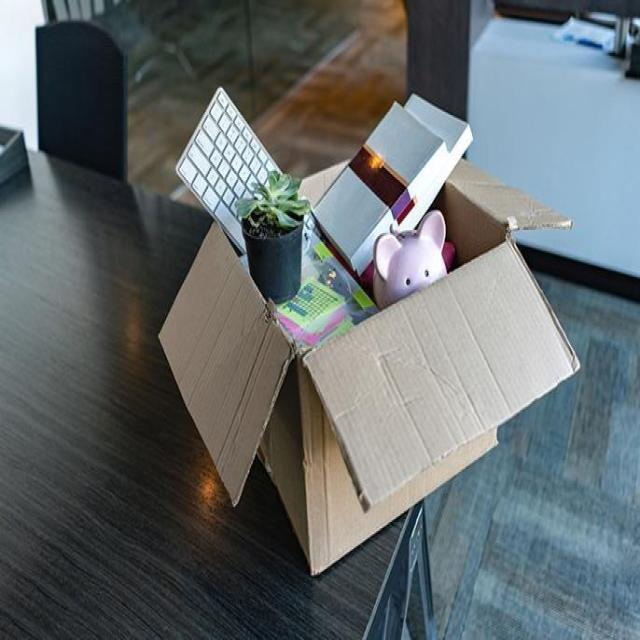cardboard: (157, 158, 581, 576)
